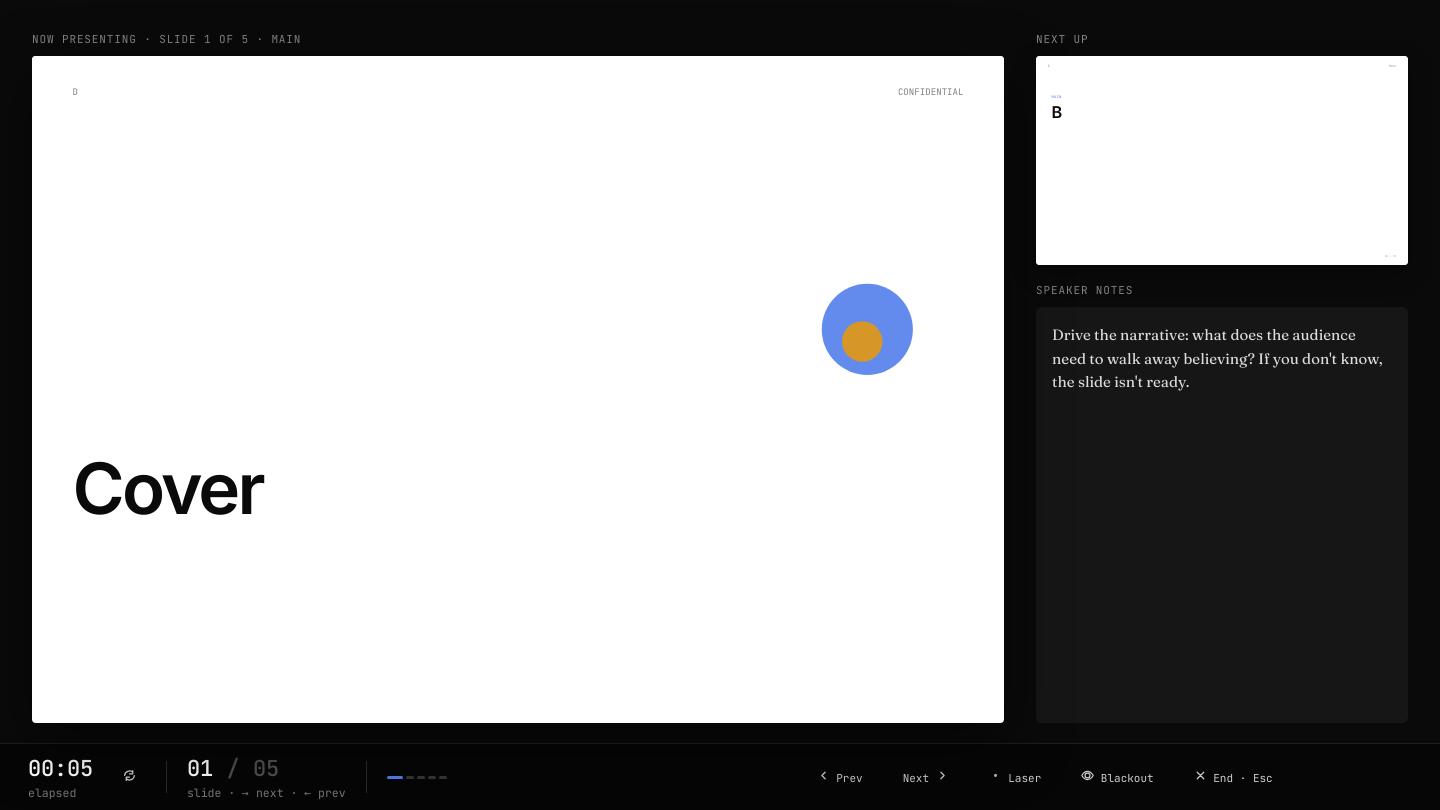
Test case: PresenterView › resets the clock to 00:00
Step 1. Click the button named "reset" → (129, 777), box [113, 765, 146, 789]
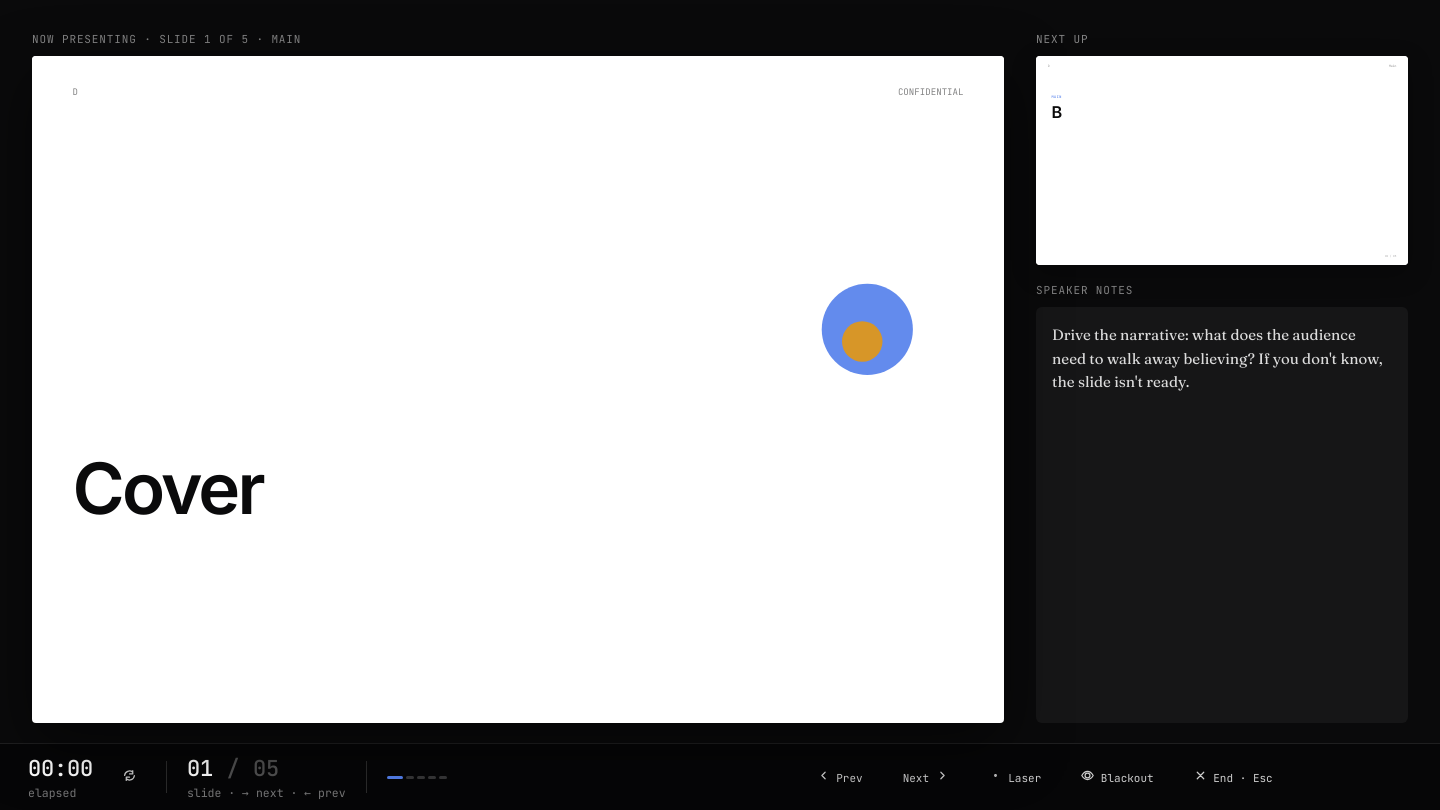
Result: the text "00:00" is shown at [28, 754, 93, 783]
